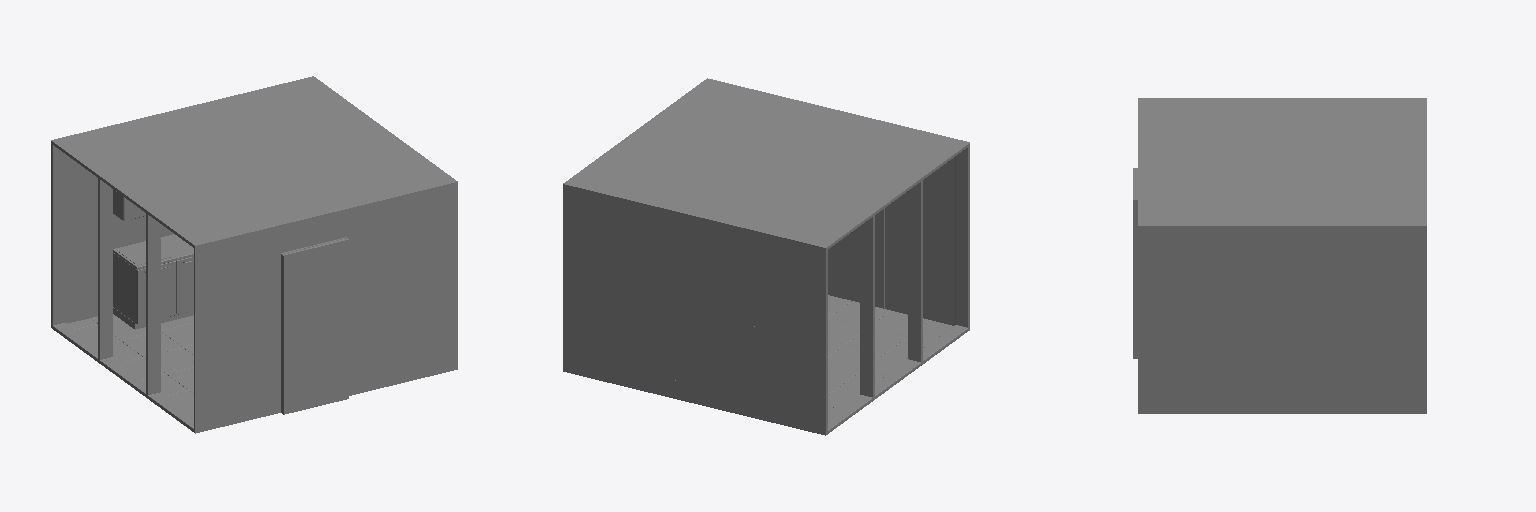
The model's file is kitchen_vr_blend.obj.
3 renders of one model, left to right at view 1: azimuth 30°, elevation 25°; view 2: azimuth 150°, elevation 25°; view 3: azimuth 270°, elevation 25°, orthographic.
Parts seen in each view (by area): view 1: walls_Mesh.001, kitchen_Mesh; view 2: walls_Mesh.001; view 3: walls_Mesh.001.
Part boxes in pixels (x1,y1,x2,y2): walls_Mesh.001: (51,76,457,433); kitchen_Mesh: (113,124,319,329); walls_Mesh.001: (563,78,969,435); walls_Mesh.001: (1133,98,1426,413).
Size of the model in its own units: 4.02 by 2.74 by 3.9.